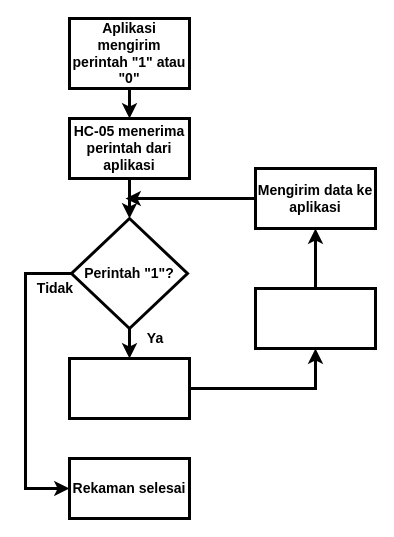
This 394x537 diagram has some shape labels left out. Each missing label, with the box of its shape:
Ambil data dari modul AD8232: (254, 286, 376, 350)
Arduino looping: (68, 356, 190, 420)
